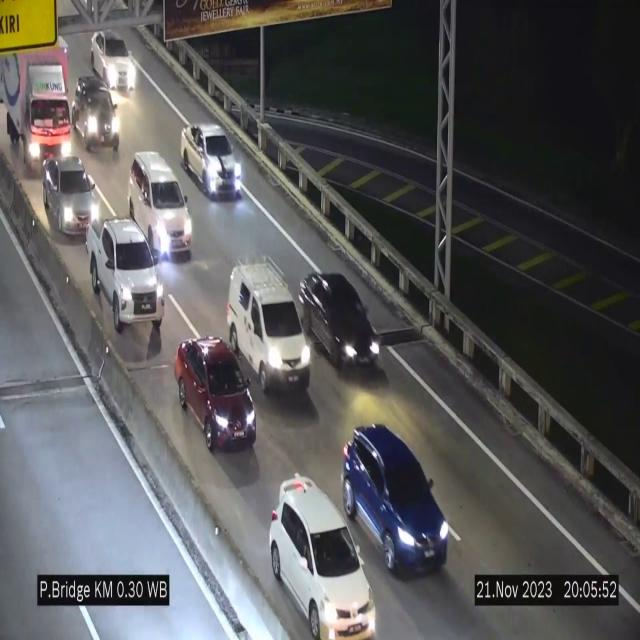Car: (269, 478, 376, 640), (342, 422, 448, 570), (227, 259, 311, 393), (82, 212, 166, 336), (176, 338, 256, 450), (299, 268, 383, 372), (128, 152, 192, 258), (180, 123, 242, 197), (45, 158, 99, 238), (69, 72, 121, 148), (90, 27, 132, 92)
Truck: (0, 34, 73, 178)
